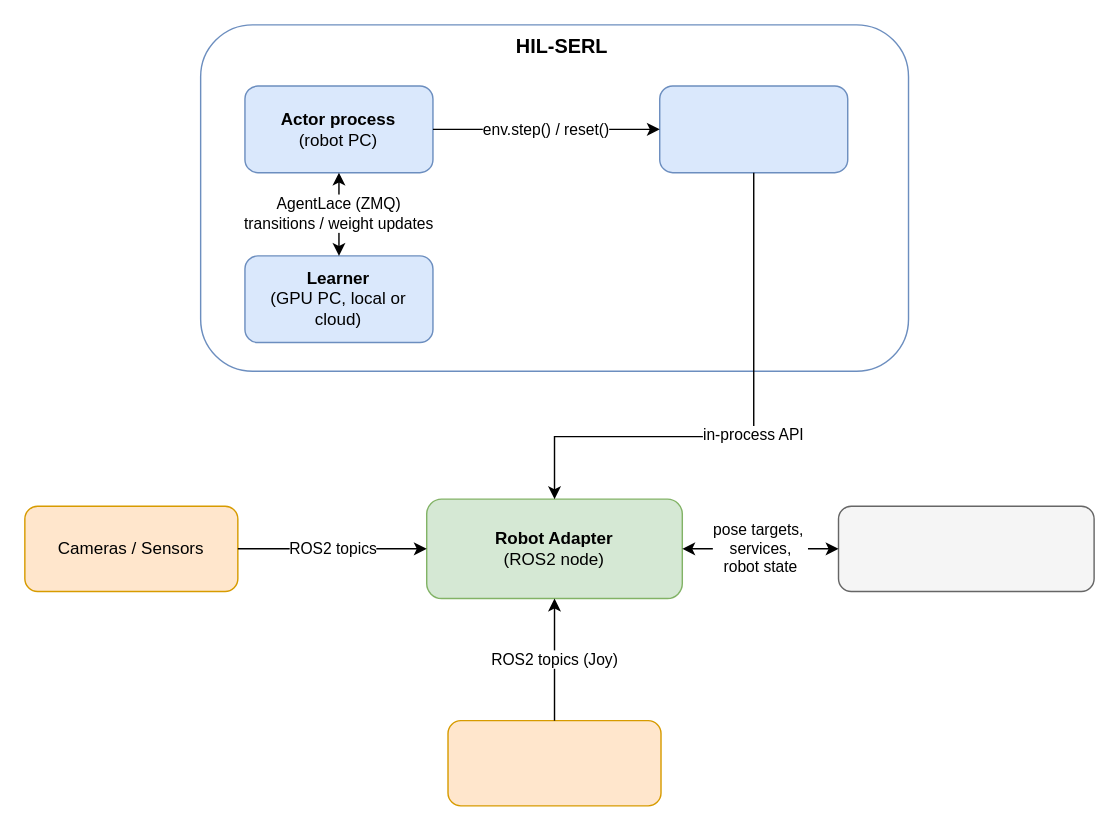
The diagram is 1119 pixels wide and 831 high, and some of its shapes have lost their labels. Each missing label, with the centre of its shape:
"Robot driver + hardware" belongs at pixel 965 548.
"RobotEnv (Gymnasium env)" belongs at pixel 753 129.
"Teleop device (SpaceMouse / Joy)" belongs at pixel 554 762.
